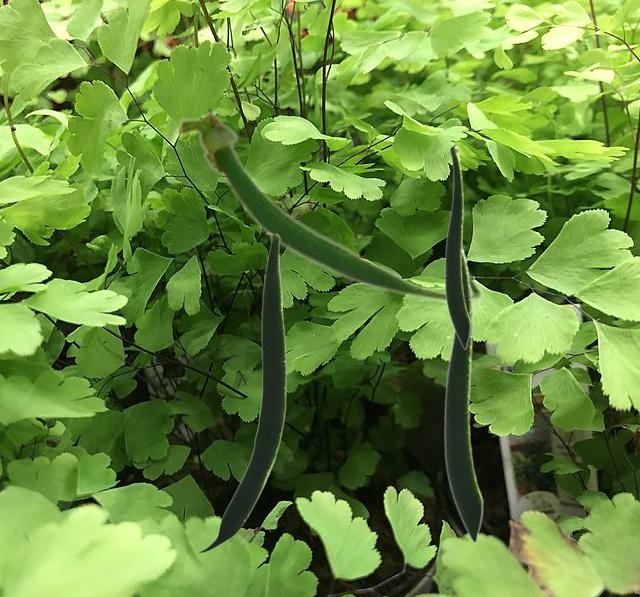french_bean: (173, 108, 484, 304), (197, 232, 285, 552), (443, 237, 483, 543), (444, 143, 470, 349)
